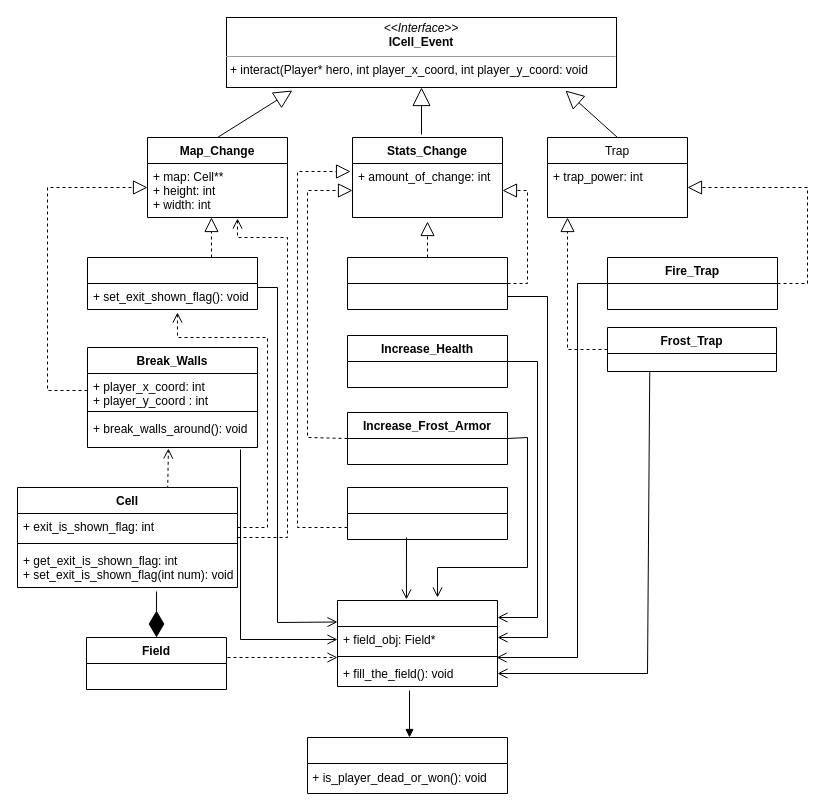
This 839x811 diagram has some shape labels left out. The shapes that lost their labels are listed below. From the top down, each one's box as (x1, y1, x2, y2) in pixels, then its label:
(86, 256, 258, 310): Show_Exit
(346, 256, 508, 310): Increase_Agility
(346, 486, 508, 540): Increase_Fire_Armor
(336, 600, 498, 686): FieldFiller
(306, 736, 508, 794): Controller
